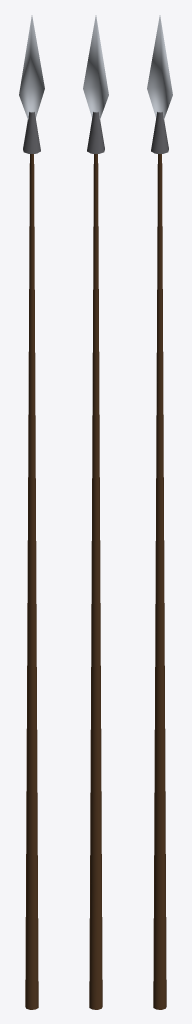
The model's file is spear.glb.
3 views of the same model, side by side, from view 1: azimuth 30°, elevation 25°; view 2: azimuth 150°, elevation 25°; view 3: azimuth 330°, elevation 25° (orthographic).
Visible parts, largest first — view 1: spear; view 2: spear; view 3: spear.
Part boxes in pixels (x1=…): spear: x1=19, y1=15, x2=44, y2=1009; spear: x1=83, y1=15, x2=108, y2=1009; spear: x1=147, y1=15, x2=172, y2=1009.
Size of the model in its own units: 0.07 by 2.55 by 0.044.
